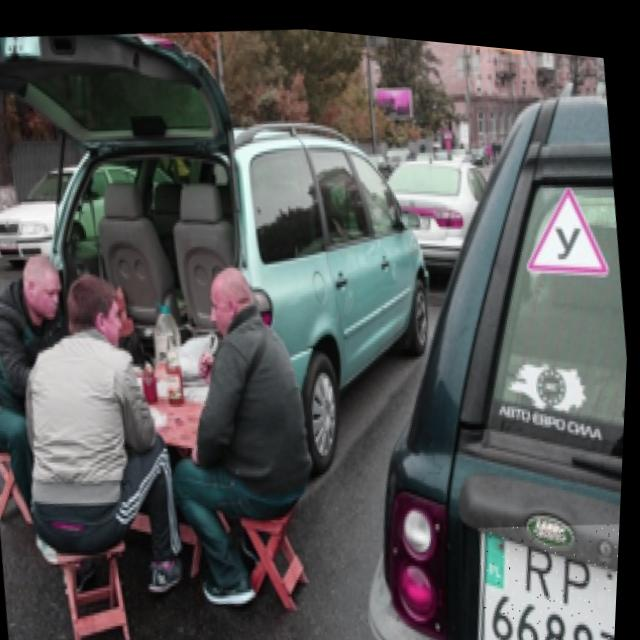license_plate: (476, 499, 624, 640)
